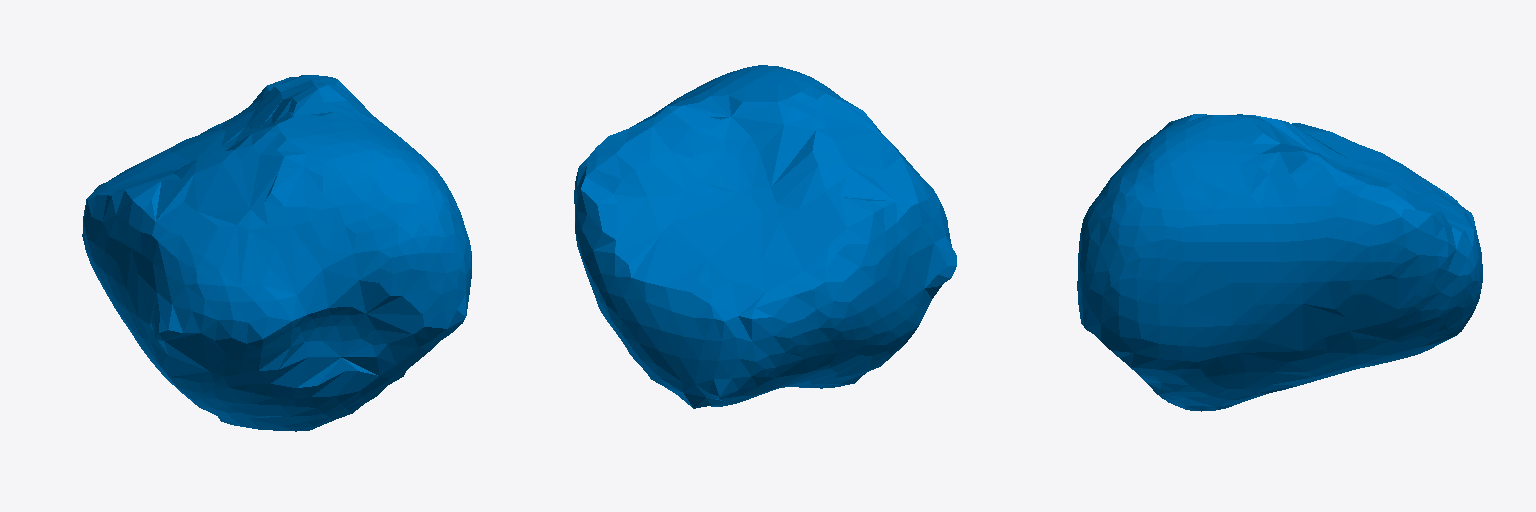
File: Model_10308_LH__Posterior_thalamic_nuclear_group_(Po).obj
The picture shows the model from 3 angles: view 1: azimuth 30°, elevation 25°; view 2: azimuth 150°, elevation 25°; view 3: azimuth 270°, elevation 25°; orthographic projection.
Bounding box in the file's own units: 1.38 × 1.3 × 1.69.